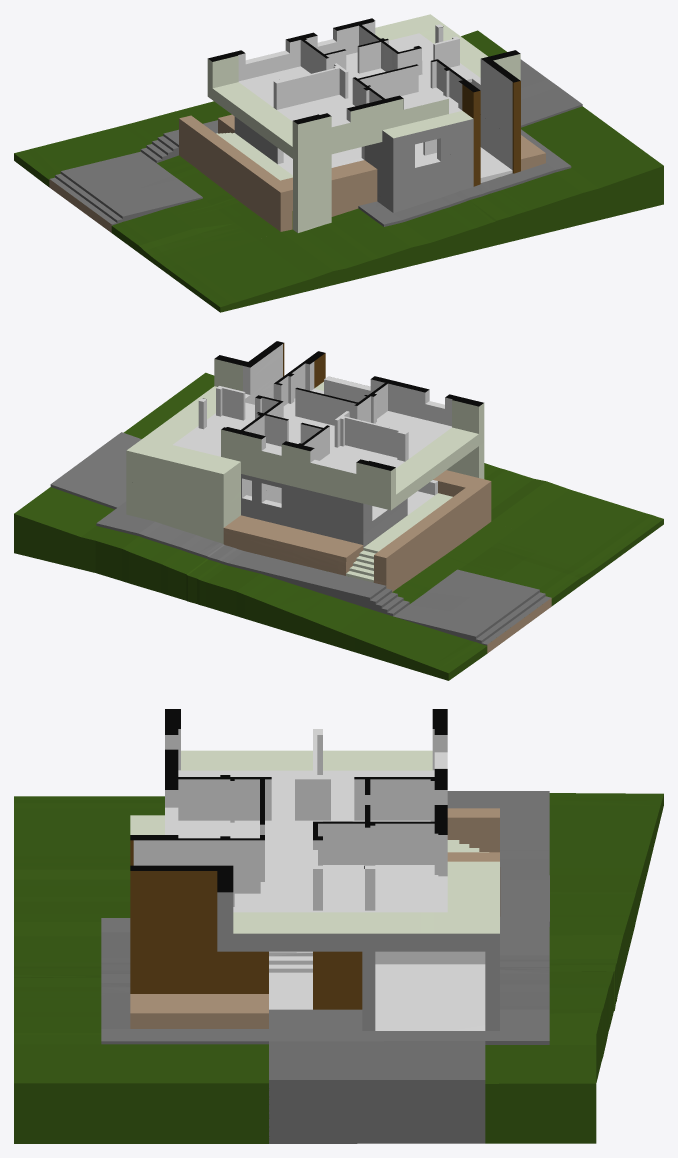
Rendered from casaClim_firstFloor.glb.
The picture shows the model from 3 angles, top to bottom: view 1: azimuth 30°, elevation 25°; view 2: azimuth 150°, elevation 25°; view 3: azimuth 270°, elevation 25°; orthographic projection. The views are drawn at different scales.
Visible parts, largest first — view 1: Plane, Plane.001, sEXTIUNE-2; view 2: Plane, Plane.001, sEXTIUNE-2; view 3: Plane, Plane.001, sEXTIUNE-2.
Part boxes in pixels (bbox=[...]): Plane: bbox=[14, 14, 663, 312]; Plane.001: bbox=[238, 20, 512, 182]; sEXTIUNE-2: bbox=[208, 18, 520, 124]; Plane: bbox=[14, 343, 663, 680]; Plane.001: bbox=[173, 344, 452, 520]; sEXTIUNE-2: bbox=[203, 341, 483, 470]; Plane: bbox=[14, 750, 663, 1143]; Plane.001: bbox=[133, 729, 485, 1030]; sEXTIUNE-2: bbox=[130, 709, 447, 892].
Size of the model in its own units: 27.7 by 7.3 by 22.42.
